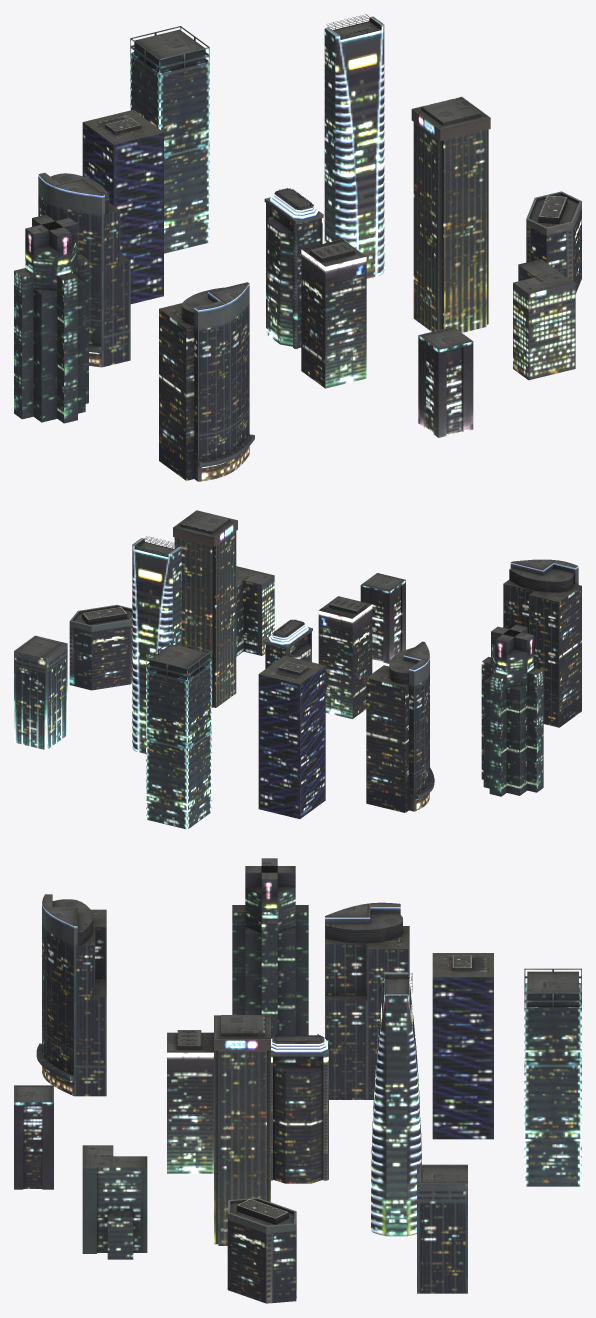
File: Background Buildings.fbx
3 views of the same model, one above another, from view 1: azimuth 30°, elevation 25°; view 2: azimuth 150°, elevation 25°; view 3: azimuth 270°, elevation 25° (orthographic). The views are drawn at different scales.
Parts seen in each view (by area): view 1: Cube.001; view 2: Cube.001; view 3: Cube.001.
Boxes of the visible parts, <box> form: Cube.001: <box>14,14,581,481</box>; Cube.001: <box>14,510,581,829</box>; Cube.001: <box>14,858,581,1303</box>.
Bounding box in the file's own units: 3530 × 1480 × 3116.
